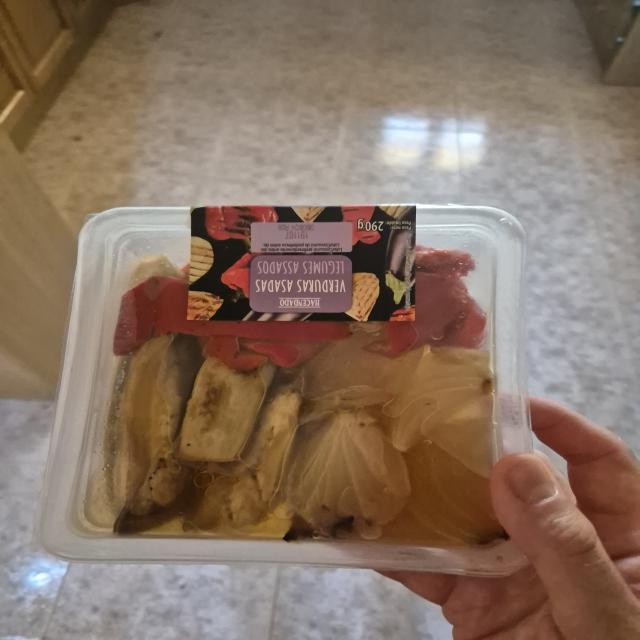escalivada: (86, 251, 518, 533)
